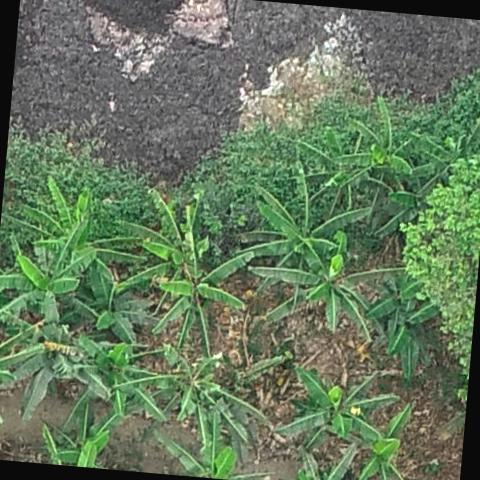Banana-plant: (228, 150, 380, 319), (242, 219, 422, 348), (107, 343, 292, 462), (0, 281, 118, 429), (110, 180, 218, 320), (0, 206, 110, 341), (148, 233, 256, 369), (15, 177, 154, 275), (280, 123, 403, 228), (274, 359, 405, 454), (51, 334, 176, 428), (328, 89, 428, 193), (405, 91, 480, 205), (345, 395, 425, 480), (377, 296, 438, 390), (360, 274, 428, 349)
